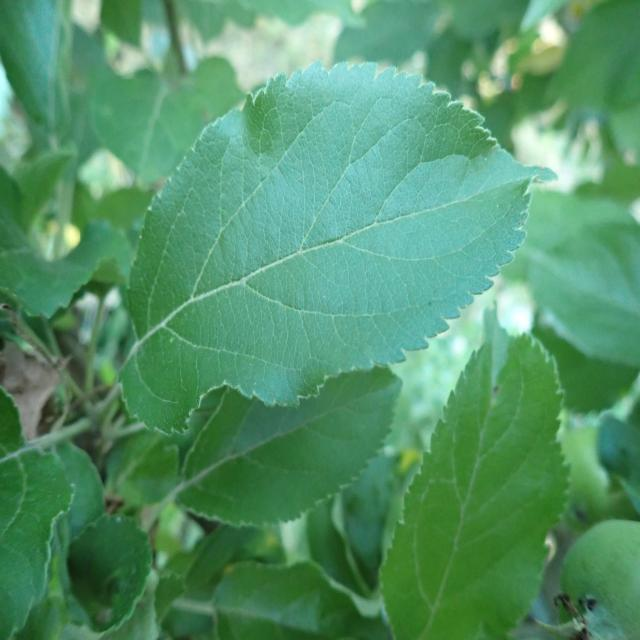healthy: (120, 59, 560, 434), (377, 310, 573, 640), (177, 362, 404, 528), (0, 388, 75, 640)
